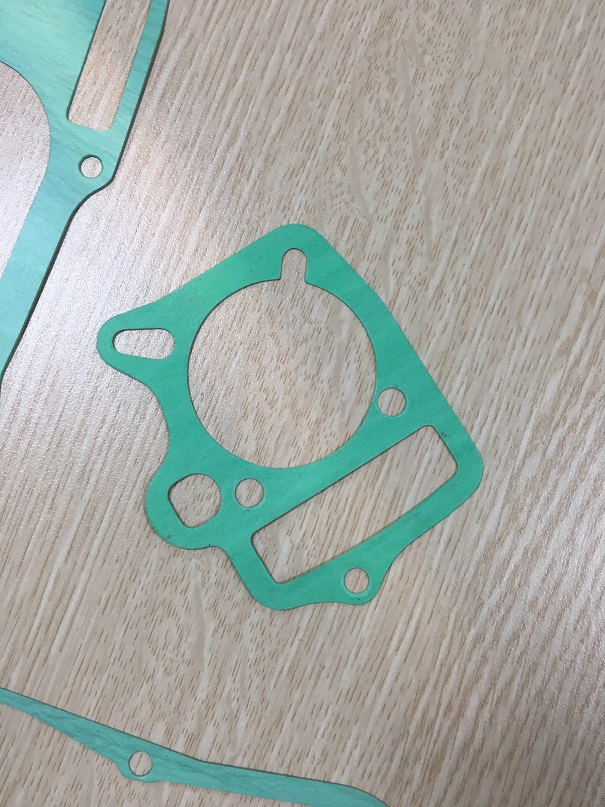type4: (91, 218, 493, 620)
